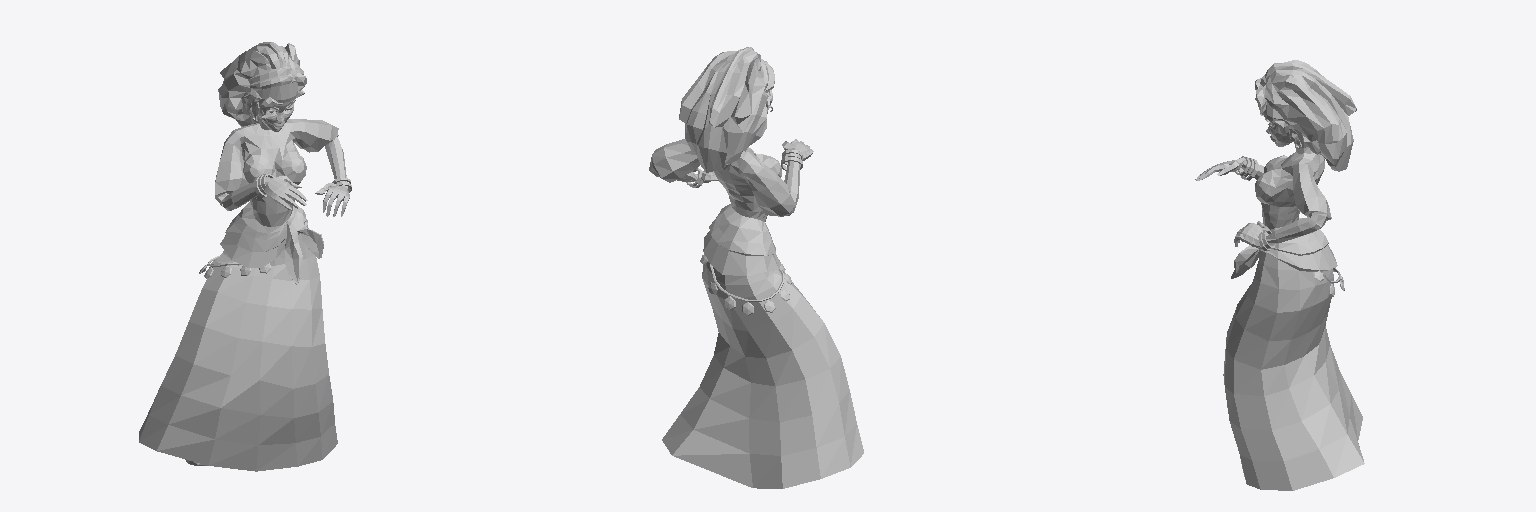
The model's file is pose090.obj.
3 renders of one model, left to right at view 1: azimuth 30°, elevation 25°; view 2: azimuth 150°, elevation 25°; view 3: azimuth 270°, elevation 25°, orthographic.
Visible parts, largest first — view 1: Peasant_girl; view 2: Peasant_girl; view 3: Peasant_girl.
Boxes of the visible parts, x1=… form: Peasant_girl: x1=139, y1=42, x2=351, y2=471; Peasant_girl: x1=649, y1=47, x2=863, y2=488; Peasant_girl: x1=1195, y1=60, x2=1364, y2=490.
Size of the model in its own units: 102 by 198 by 74.61.